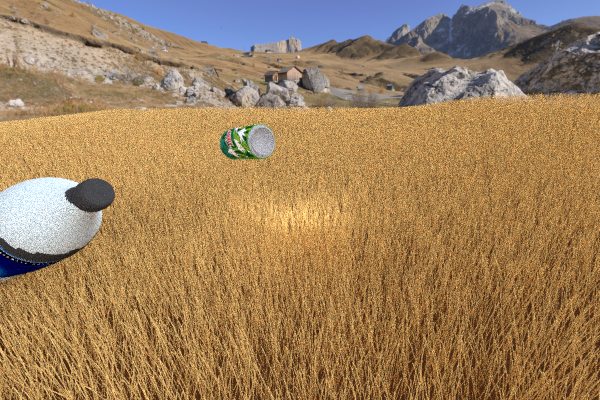Plastic Bottle: (0, 177, 115, 287), (402, 122, 464, 160), (219, 123, 275, 159)
